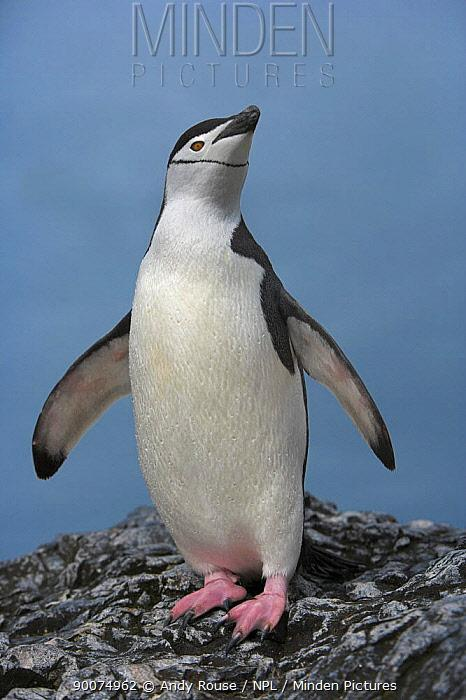chinstrap: (36, 103, 408, 656)
